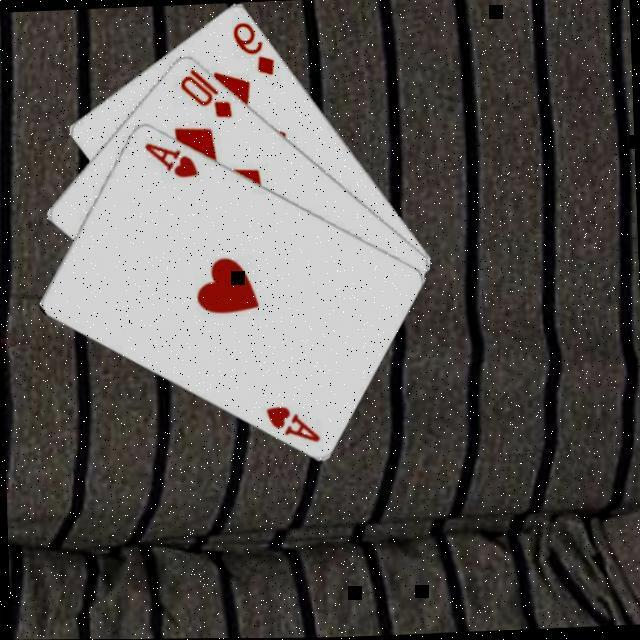10D: (174, 62, 234, 121)
9D: (227, 13, 277, 77)
AH: (260, 398, 322, 444), (139, 134, 200, 180)
